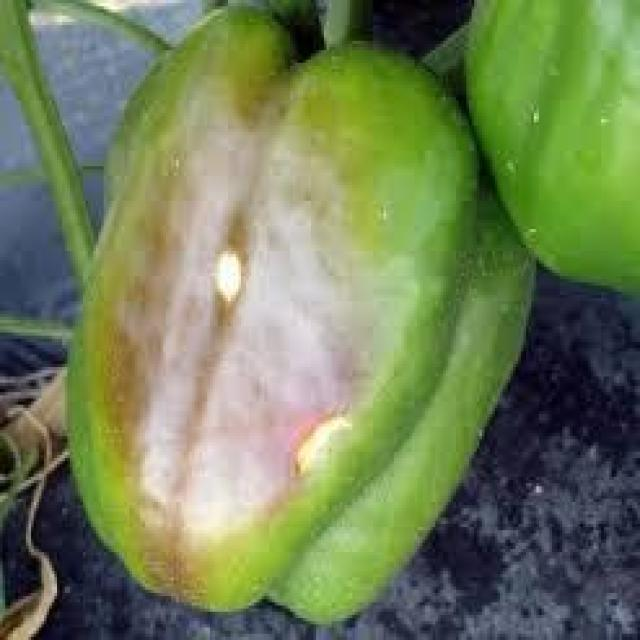Wet Waste: (51, 3, 538, 620)
